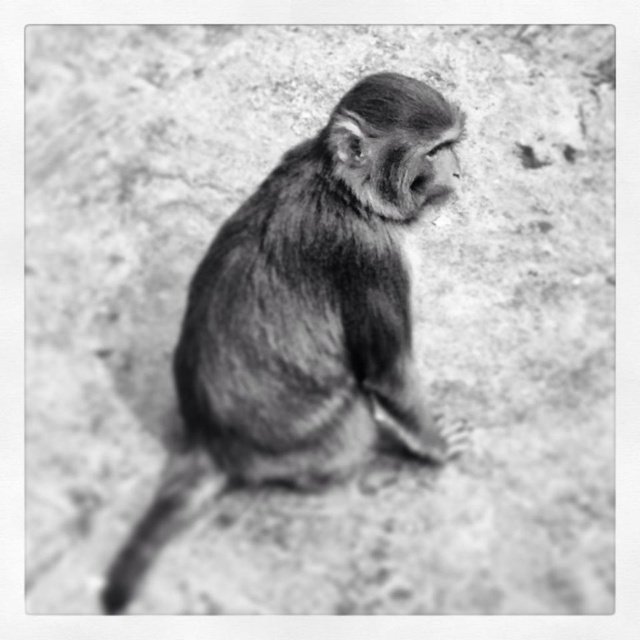Monkey: (78, 83, 491, 589)
